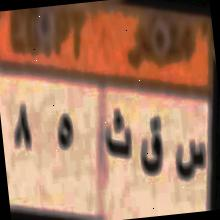5: (50, 104, 84, 158)
8: (6, 94, 35, 155)
qaaf: (136, 114, 168, 179)
seen: (170, 126, 212, 185)
thaa: (102, 105, 136, 164)
